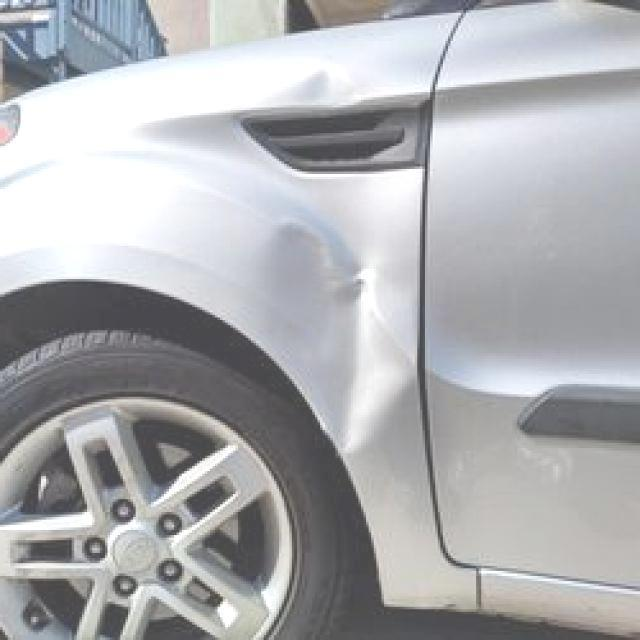minor: (166, 155, 420, 483), (256, 61, 357, 109)
